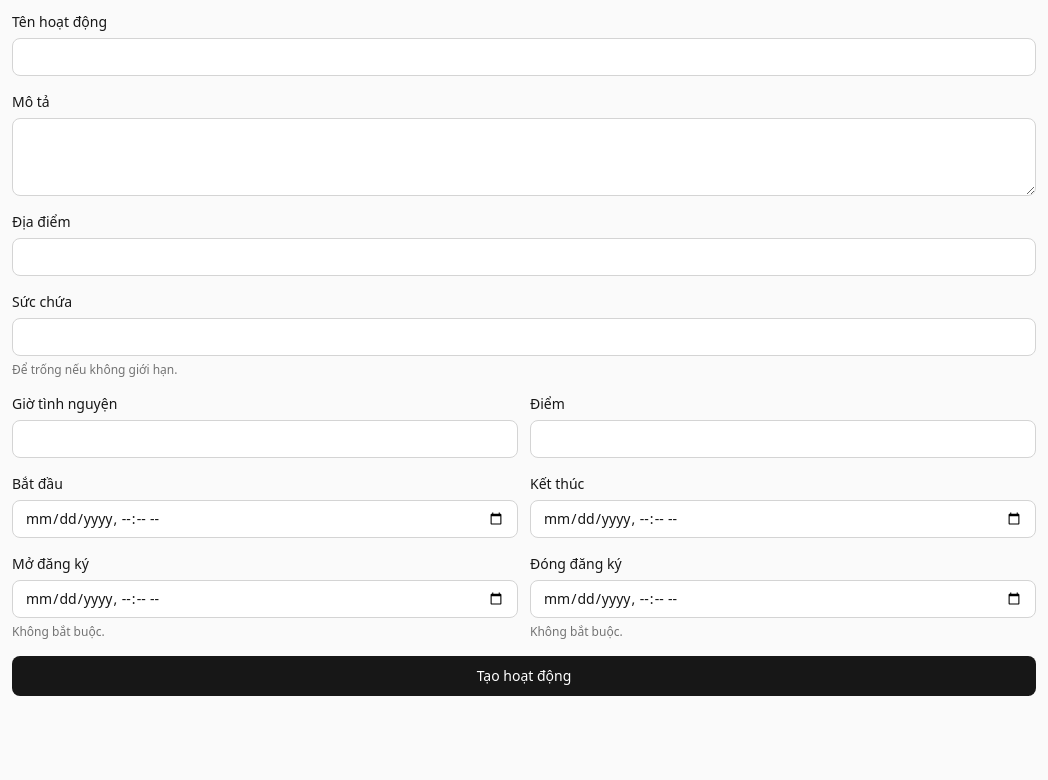
it: ActivityForm — create › blocks a backwards time window locally
Type "X" into the field labelled "Tên hoạt động" at [524, 57], box [12,38,1036,76]
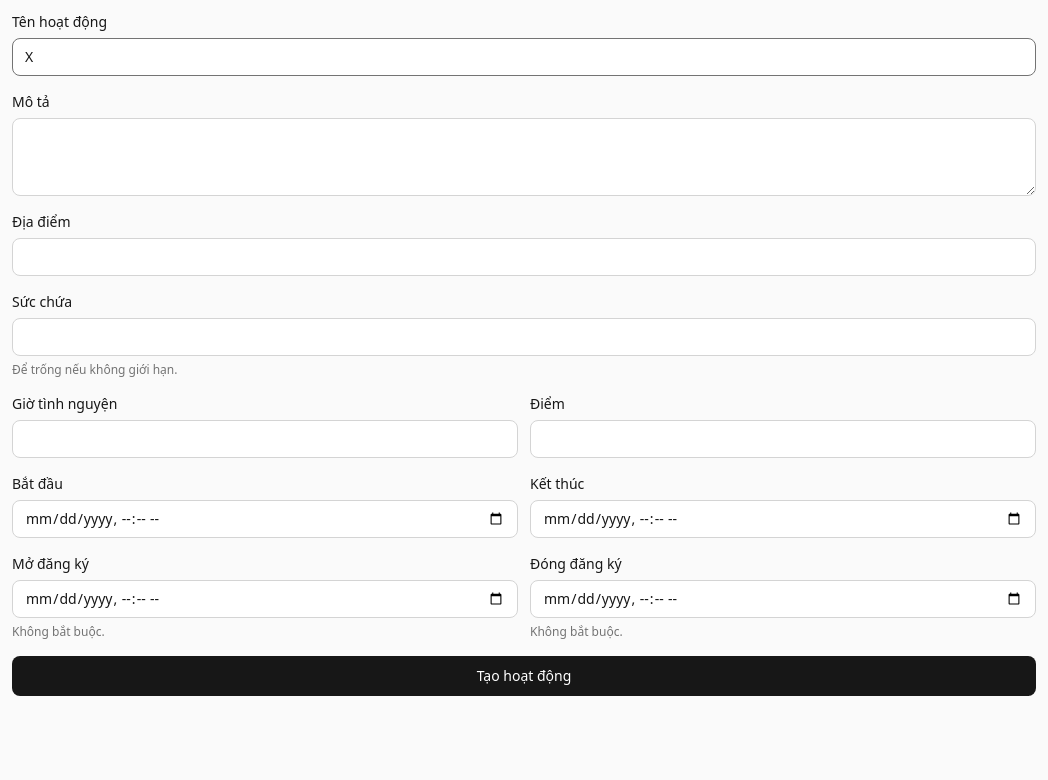
Type "1" into the number field labelled "Giờ tình nguyện" at [265, 439], box [12,420,518,458]
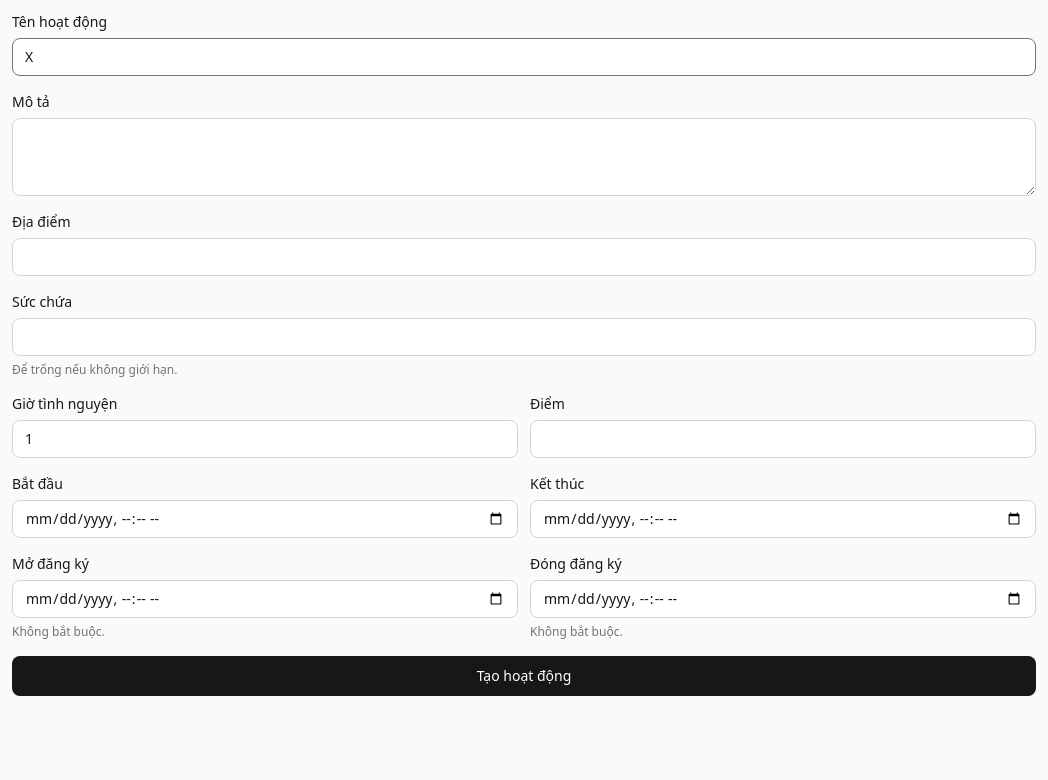
Type "1" into the number field labelled "Điểm" at [783, 439], box [530,420,1036,458]
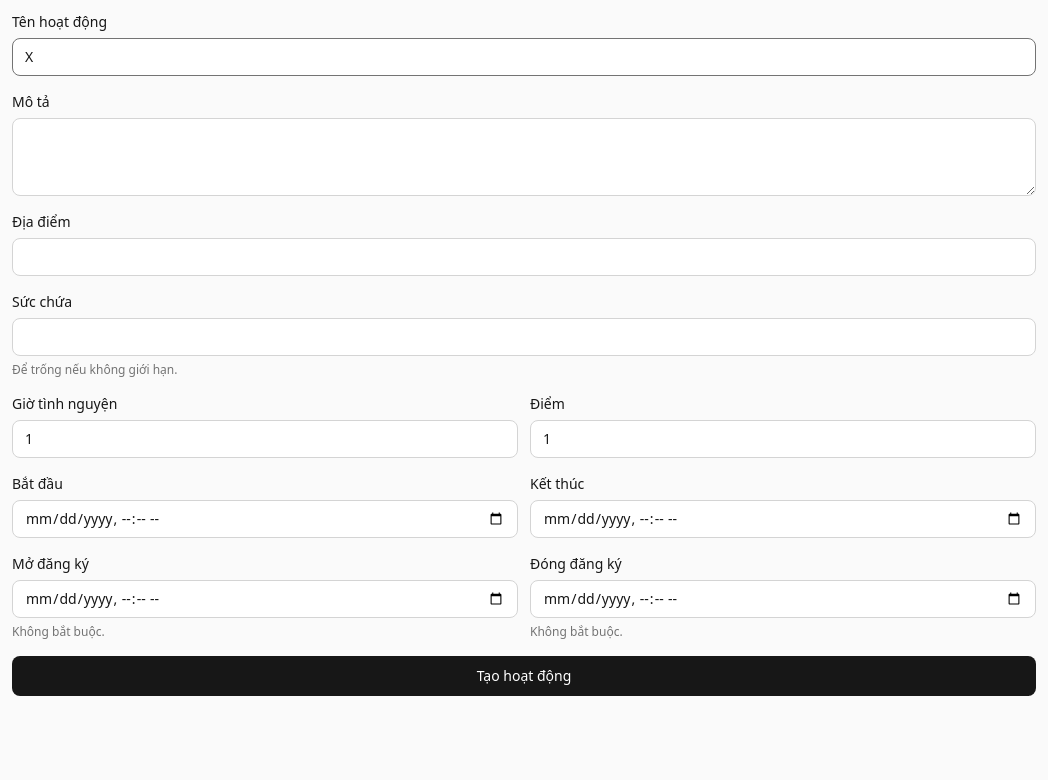
Type "2026-06-15T18:00" into the field labelled "Bắt đầu" at [265, 519], box [12,500,518,538]
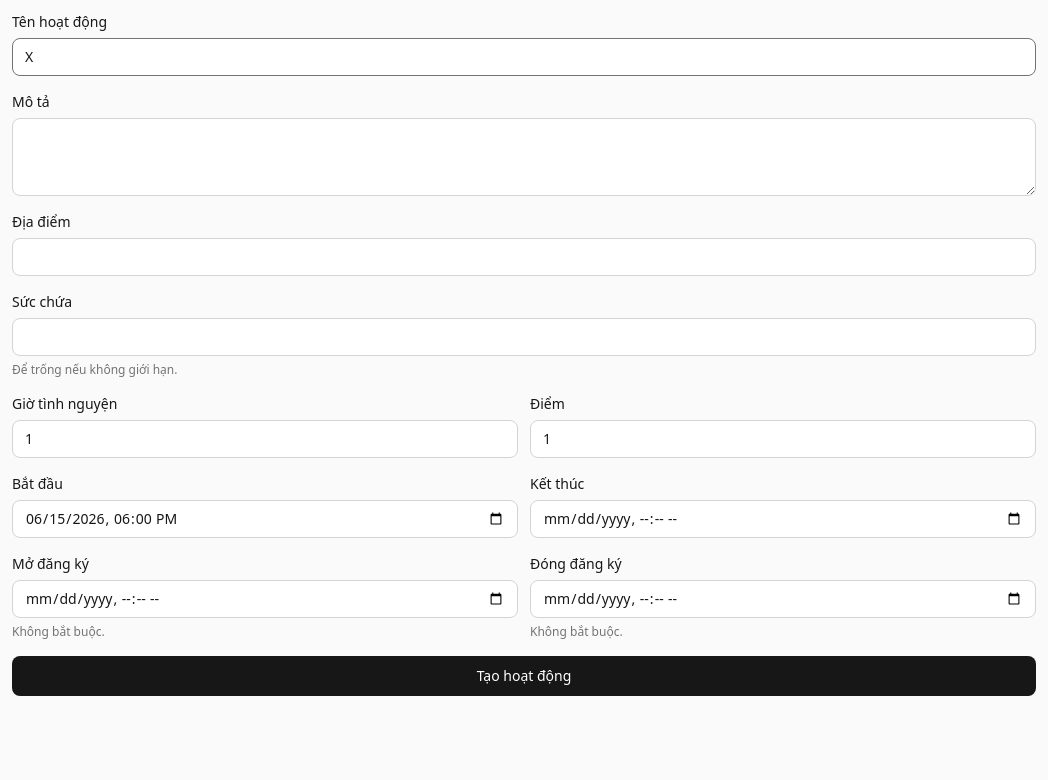
Type "2026-06-15T08:00" into the field labelled "Kết thúc" at [783, 519], box [530,500,1036,538]
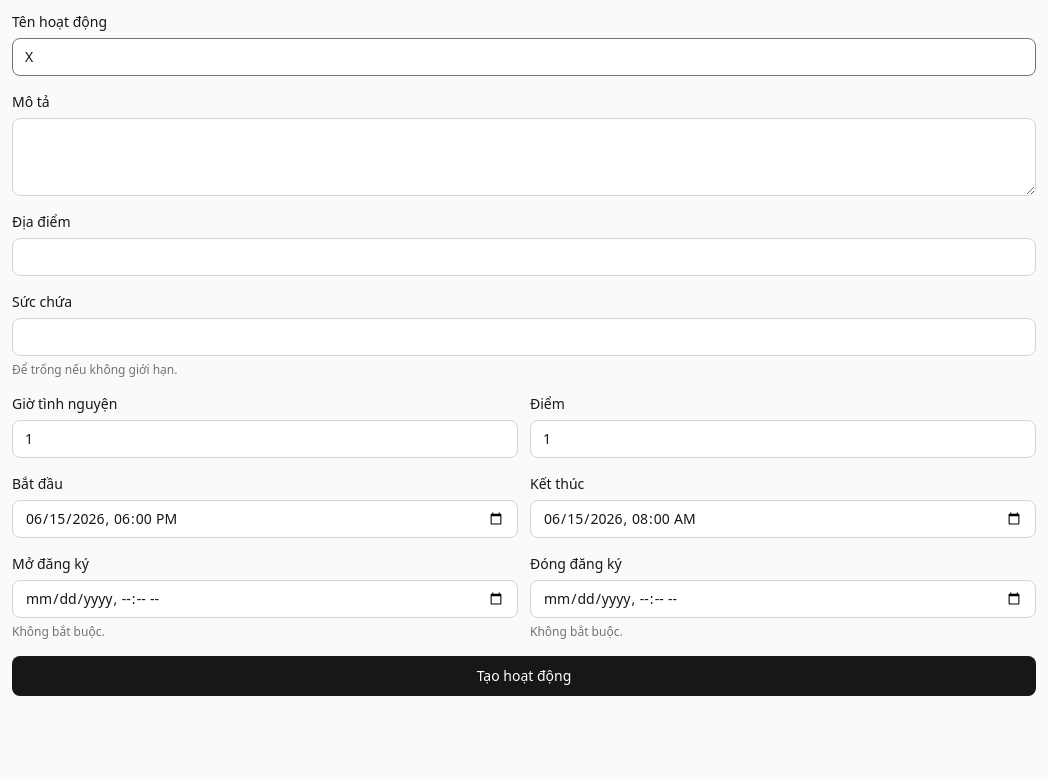
Click the button "Tạo hoạt động" at [524, 676], box [12,656,1036,696]
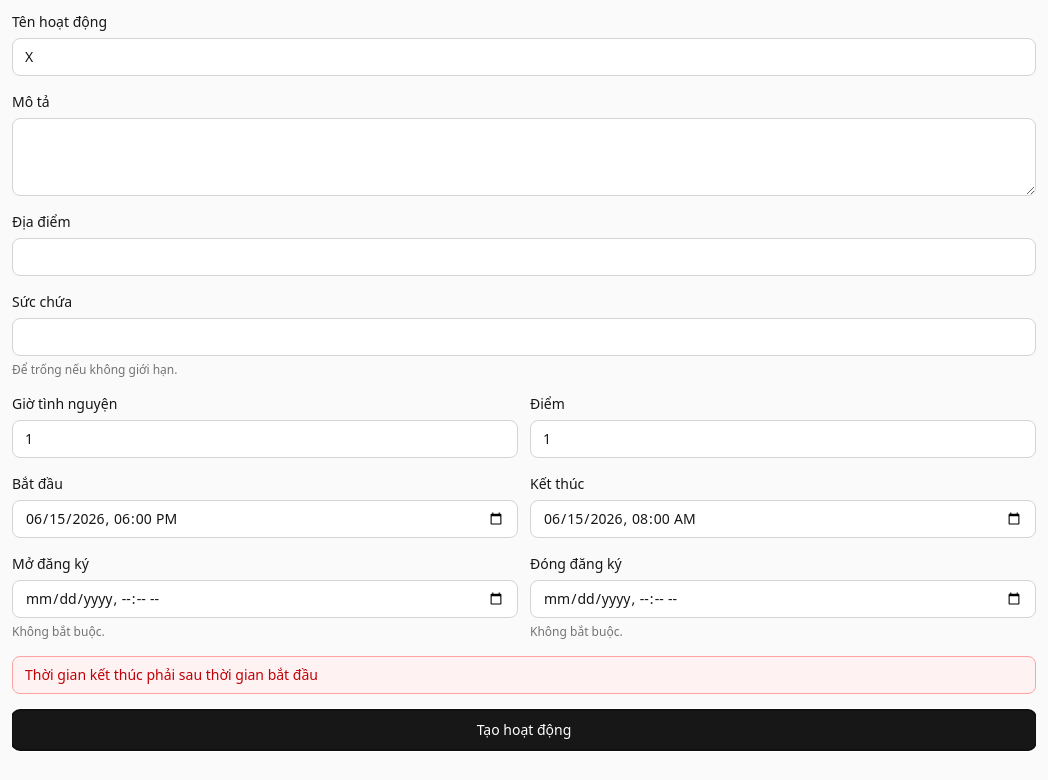
Now the message reads "Thời gian kết thúc phải sau thời gian bắt đầu", box [25,665,318,684]
